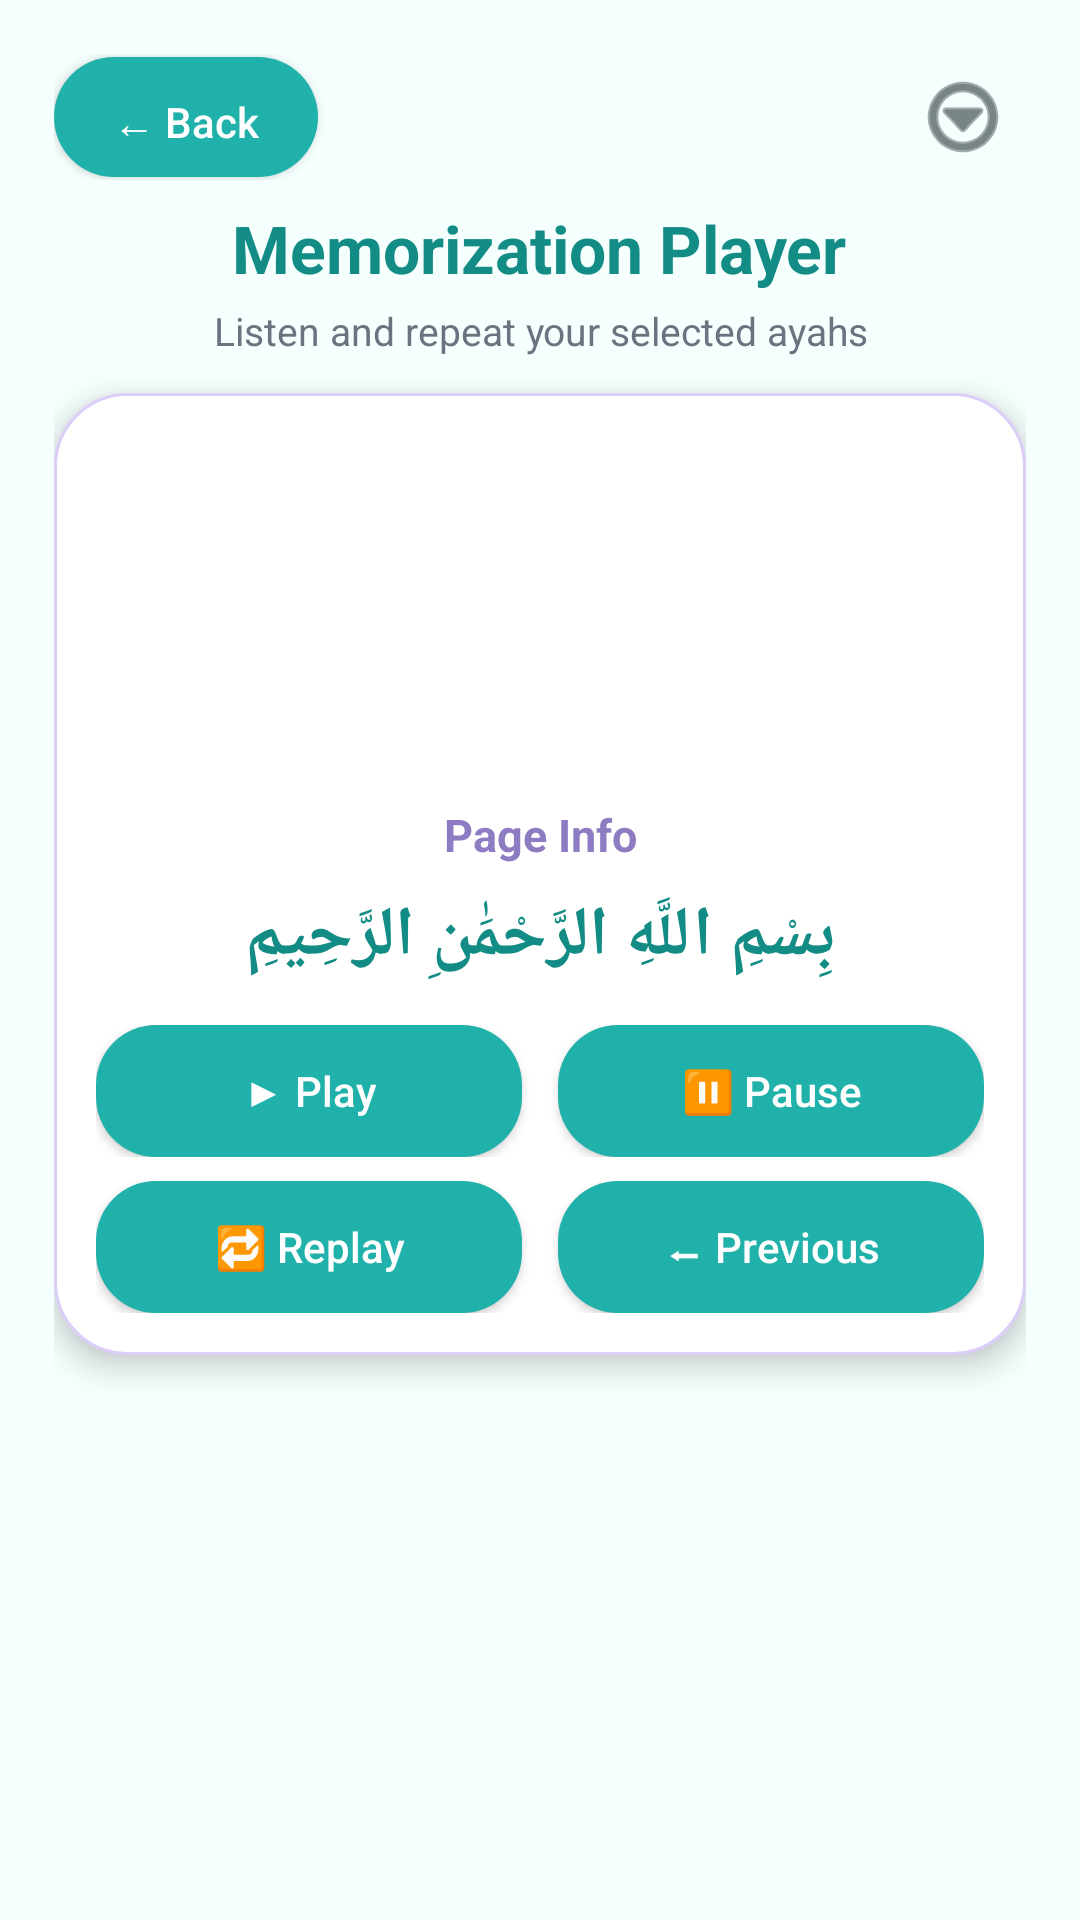

Icon bounding boxes for this 1080w x 1920h phone screenshot, format [left=x1, top=y1, right=x2, bottom=y2]:
Menu: [left=927, top=82, right=999, bottom=153]
